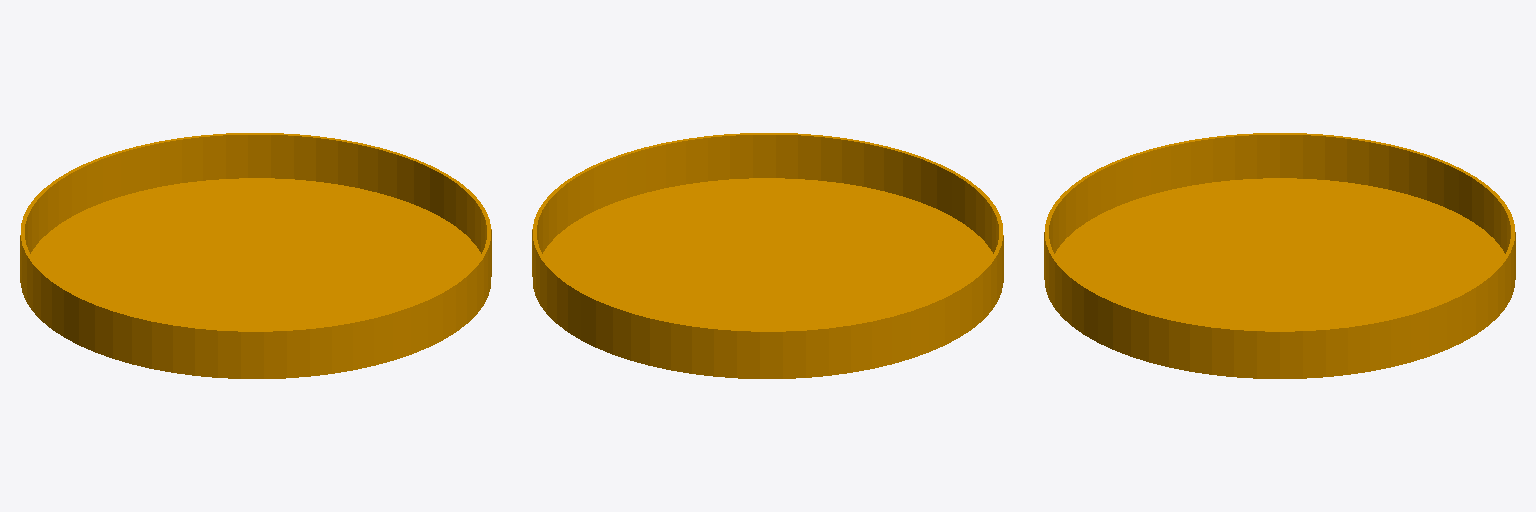
The robot description file, URDF, robot "tin_lid":
<?xml version="1.0" ?>
<robot name="tin_lid">
  <link name="base_link">
    <inertial>
      <origin xyz="0 0 0.005" rpy="0 0 0"/>
      <mass value="0.056142206"/>
      <inertia ixx="3.83638408e-05" ixy="0" ixz="0" iyy="3.83638408e-05" iyz="0" izz="7.57919781e-05"/>
    </inertial>
    <visual name="visual">
      <origin xyz="0 0 0" rpy="0 0 0"/>
      <geometry>
        <mesh filename="meshes/visual.obj" scale="1 1 1"/>
      </geometry>
    </visual>
    <collision name="floor">
      <origin xyz="0 0 0" rpy="0 0 0"/>
      <geometry>
        <mesh filename="meshes/collision/floor.obj" scale="1 1 1"/>
      </geometry>
    </collision>
    <collision name="wall_00">
      <origin xyz="0 0 0" rpy="0 0 0"/>
      <geometry>
        <mesh filename="meshes/collision/wall_00.obj" scale="1 1 1"/>
      </geometry>
    </collision>
    <collision name="wall_01">
      <origin xyz="0 0 0" rpy="0 0 0"/>
      <geometry>
        <mesh filename="meshes/collision/wall_01.obj" scale="1 1 1"/>
      </geometry>
    </collision>
    <collision name="wall_02">
      <origin xyz="0 0 0" rpy="0 0 0"/>
      <geometry>
        <mesh filename="meshes/collision/wall_02.obj" scale="1 1 1"/>
      </geometry>
    </collision>
    <collision name="wall_03">
      <origin xyz="0 0 0" rpy="0 0 0"/>
      <geometry>
        <mesh filename="meshes/collision/wall_03.obj" scale="1 1 1"/>
      </geometry>
    </collision>
    <collision name="wall_04">
      <origin xyz="0 0 0" rpy="0 0 0"/>
      <geometry>
        <mesh filename="meshes/collision/wall_04.obj" scale="1 1 1"/>
      </geometry>
    </collision>
    <collision name="wall_05">
      <origin xyz="0 0 0" rpy="0 0 0"/>
      <geometry>
        <mesh filename="meshes/collision/wall_05.obj" scale="1 1 1"/>
      </geometry>
    </collision>
    <collision name="wall_06">
      <origin xyz="0 0 0" rpy="0 0 0"/>
      <geometry>
        <mesh filename="meshes/collision/wall_06.obj" scale="1 1 1"/>
      </geometry>
    </collision>
    <collision name="wall_07">
      <origin xyz="0 0 0" rpy="0 0 0"/>
      <geometry>
        <mesh filename="meshes/collision/wall_07.obj" scale="1 1 1"/>
      </geometry>
    </collision>
    <collision name="wall_08">
      <origin xyz="0 0 0" rpy="0 0 0"/>
      <geometry>
        <mesh filename="meshes/collision/wall_08.obj" scale="1 1 1"/>
      </geometry>
    </collision>
    <collision name="wall_09">
      <origin xyz="0 0 0" rpy="0 0 0"/>
      <geometry>
        <mesh filename="meshes/collision/wall_09.obj" scale="1 1 1"/>
      </geometry>
    </collision>
    <collision name="wall_10">
      <origin xyz="0 0 0" rpy="0 0 0"/>
      <geometry>
        <mesh filename="meshes/collision/wall_10.obj" scale="1 1 1"/>
      </geometry>
    </collision>
    <collision name="wall_11">
      <origin xyz="0 0 0" rpy="0 0 0"/>
      <geometry>
        <mesh filename="meshes/collision/wall_11.obj" scale="1 1 1"/>
      </geometry>
    </collision>
    <collision name="wall_12">
      <origin xyz="0 0 0" rpy="0 0 0"/>
      <geometry>
        <mesh filename="meshes/collision/wall_12.obj" scale="1 1 1"/>
      </geometry>
    </collision>
    <collision name="wall_13">
      <origin xyz="0 0 0" rpy="0 0 0"/>
      <geometry>
        <mesh filename="meshes/collision/wall_13.obj" scale="1 1 1"/>
      </geometry>
    </collision>
    <collision name="wall_14">
      <origin xyz="0 0 0" rpy="0 0 0"/>
      <geometry>
        <mesh filename="meshes/collision/wall_14.obj" scale="1 1 1"/>
      </geometry>
    </collision>
    <collision name="wall_15">
      <origin xyz="0 0 0" rpy="0 0 0"/>
      <geometry>
        <mesh filename="meshes/collision/wall_15.obj" scale="1 1 1"/>
      </geometry>
    </collision>
  </link>
</robot>

--- What the picture shows (computed from the rendered views, not written in the file) ---
3 views of the same robot in one strip: view 1: azimuth 30°, elevation 25°; view 2: azimuth 150°, elevation 25°; view 3: azimuth 270°, elevation 25° (orthographic).
Robot: tin_lid — 1 links, 0 joints (none); root link base_link; default pose: all joints at 0.
Links seen in each view (by area): view 1: base_link; view 2: base_link; view 3: base_link.
Link boxes in pixels (x1,y1,x2,y2): base_link: (20,133,491,378); base_link: (532,133,1003,378); base_link: (1044,133,1515,378).
Size in the robot's own frame: 0.09 by 0.09 by 0.01 metres.
Meshes: 1 distinct files referenced, 1 mesh visuals loaded (1 OBJ).
